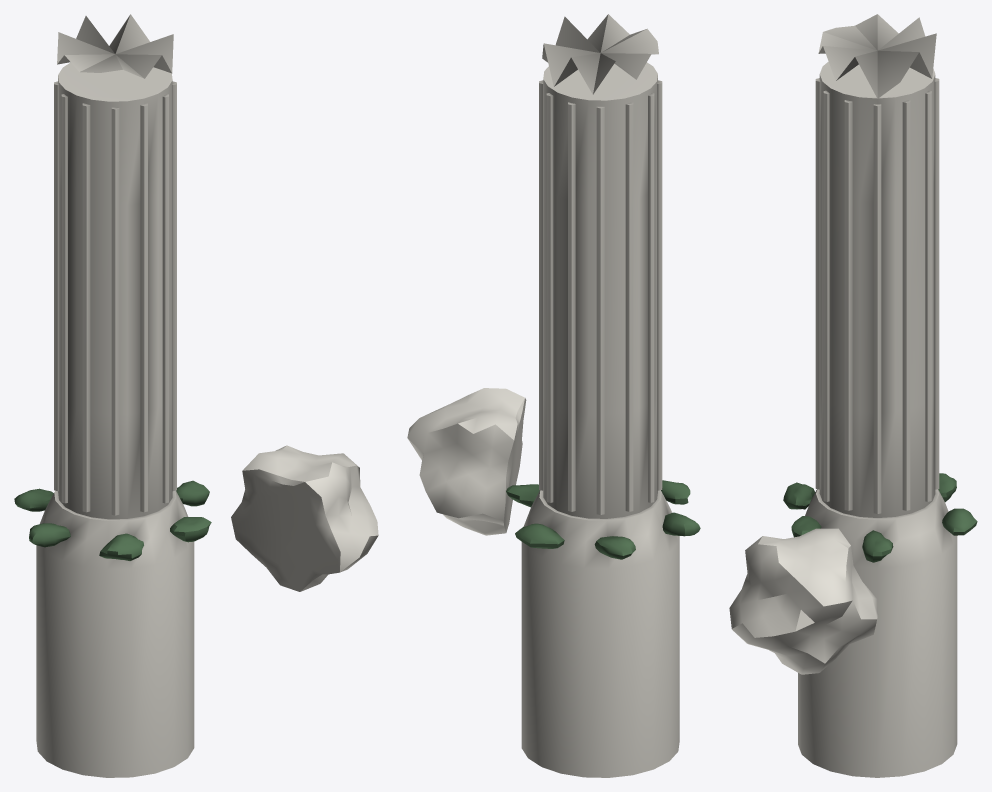
Rendered from column.glb.
The picture shows the model from 3 angles, left to right: view 1: azimuth 30°, elevation 25°; view 2: azimuth 150°, elevation 25°; view 3: azimuth 270°, elevation 25°; orthographic projection.
Parts seen in each view (by area): view 1: boat_marble, boat_weed; view 2: boat_marble, boat_weed; view 3: boat_marble, boat_weed.
Boxes of the visible parts, x1,y1,x2,y2 form: boat_marble: (36, 14, 378, 777); boat_weed: (14, 480, 211, 560); boat_marble: (407, 14, 679, 777); boat_weed: (506, 480, 700, 559); boat_marble: (729, 14, 957, 777); boat_weed: (783, 473, 977, 562).
Size of the model in its own units: 2.79 by 6.1 by 1.93.
